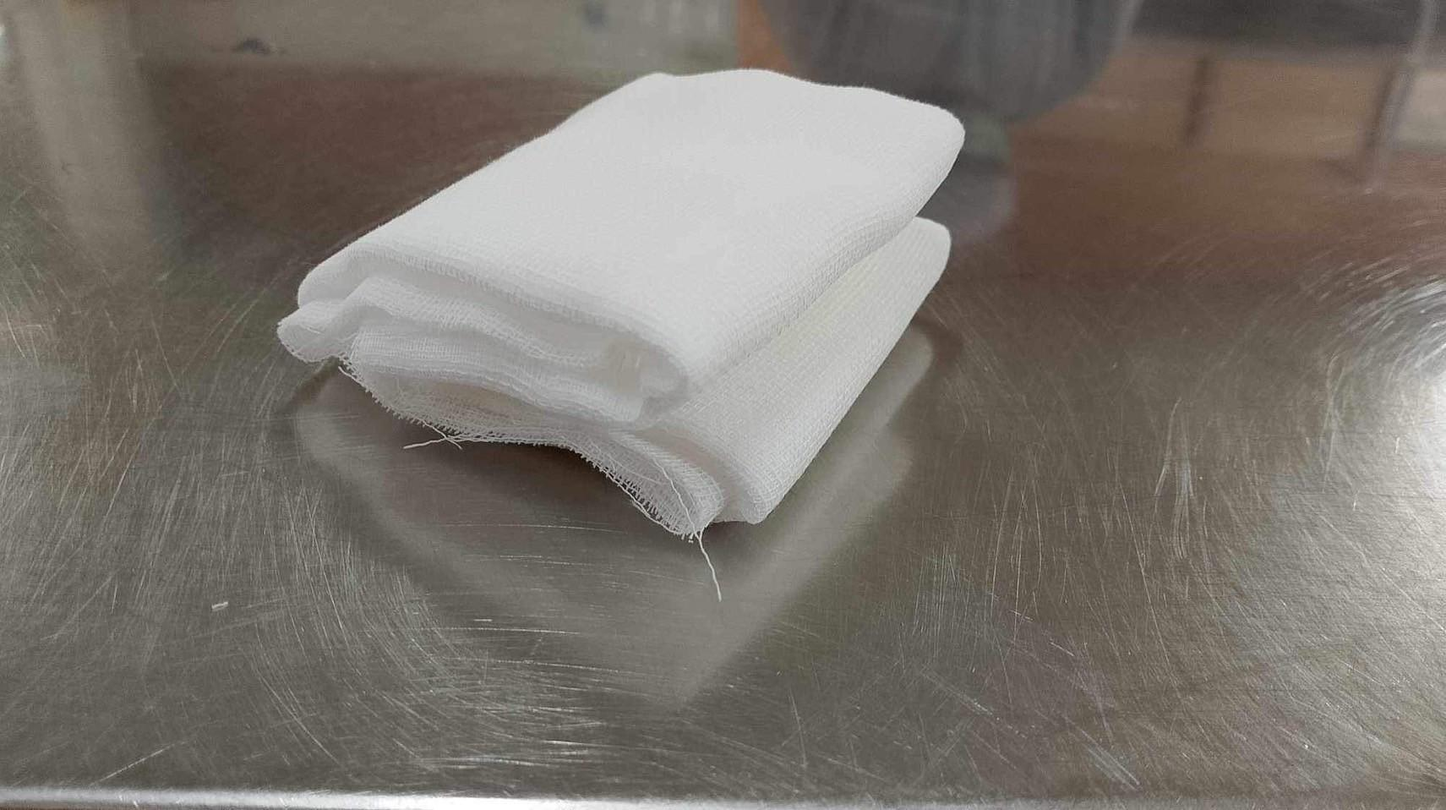General: (5, 5, 1438, 803)
Infectious: (276, 64, 967, 578)
